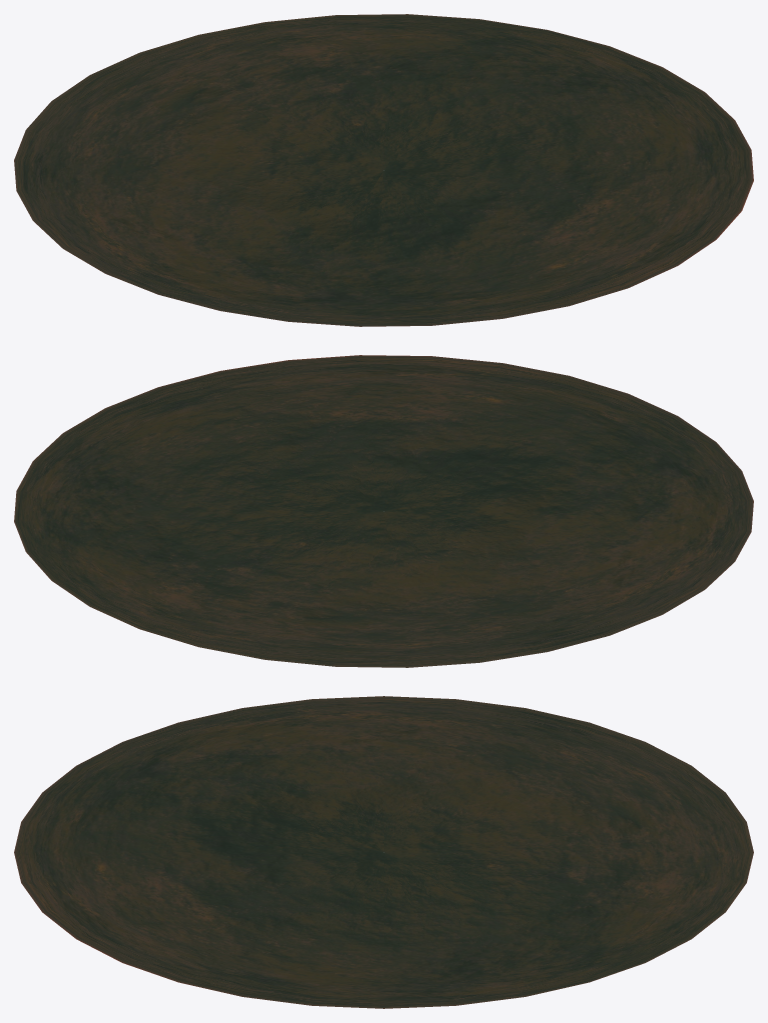
Rendered from ground.obj.
3 views of the same model, one above another, from view 1: azimuth 30°, elevation 25°; view 2: azimuth 150°, elevation 25°; view 3: azimuth 270°, elevation 25° (orthographic).
Parts seen in each view (by area): view 1: 球; view 2: 球; view 3: 球.
Boxes of the visible parts, <box> form: 球: <box>14,14,753,326</box>; 球: <box>14,355,753,667</box>; 球: <box>14,696,753,1008</box>.
Size of the model in its own units: 400 by 0.001 by 400.
1 material, 1 textured.
